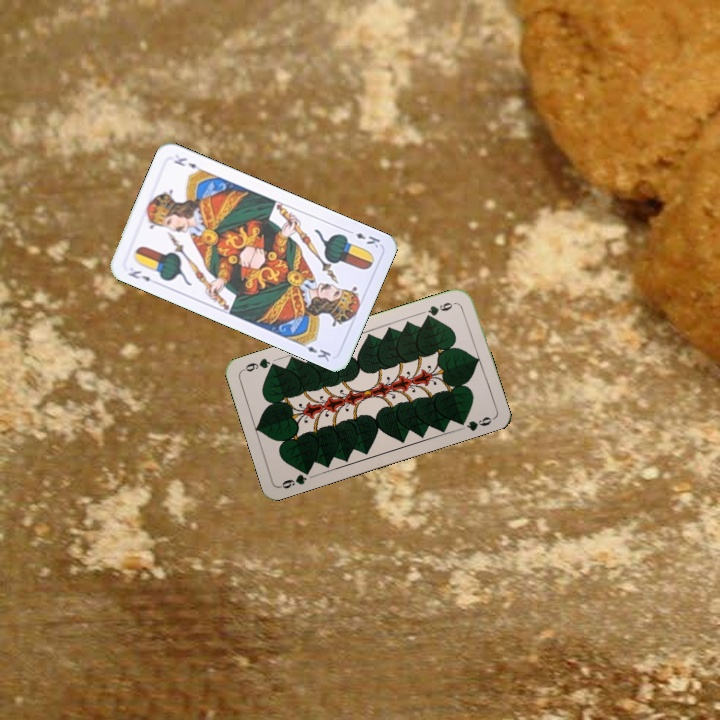EK: (343, 226, 383, 251), (124, 266, 153, 284)
G9: (276, 465, 314, 491), (421, 298, 455, 321)
